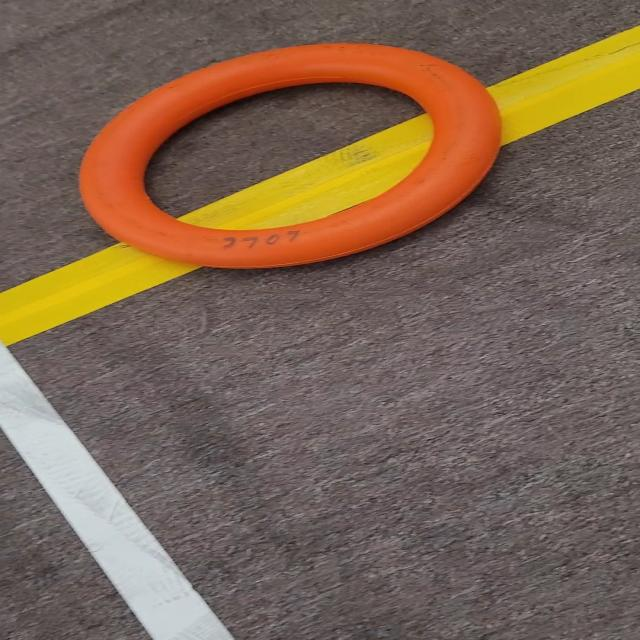note: (73, 41, 520, 285)
